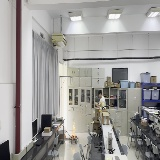fire: (71, 121, 76, 139)
